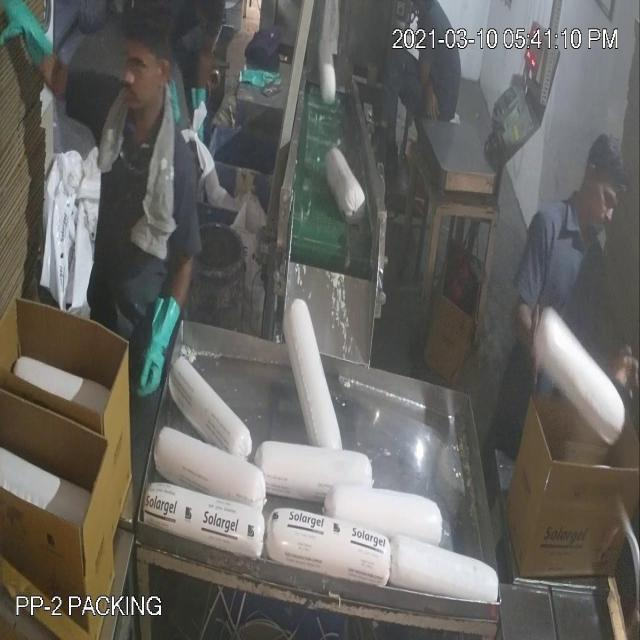Gloves: (31, 38, 530, 343)
